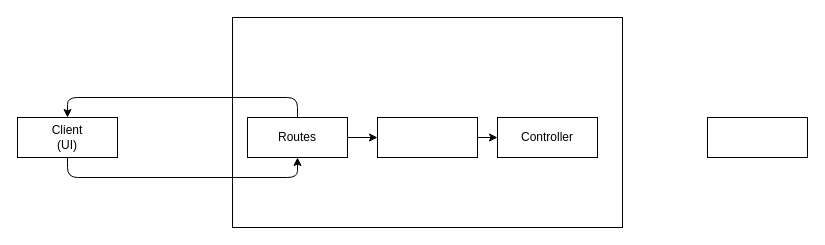
Image size: 825x245. Some labels were removed from this diagram. Here are the shapes that lost their labels. From the top down, the box of each, then its label:
(376, 116, 478, 158): Middleware
(706, 116, 808, 158): Model
